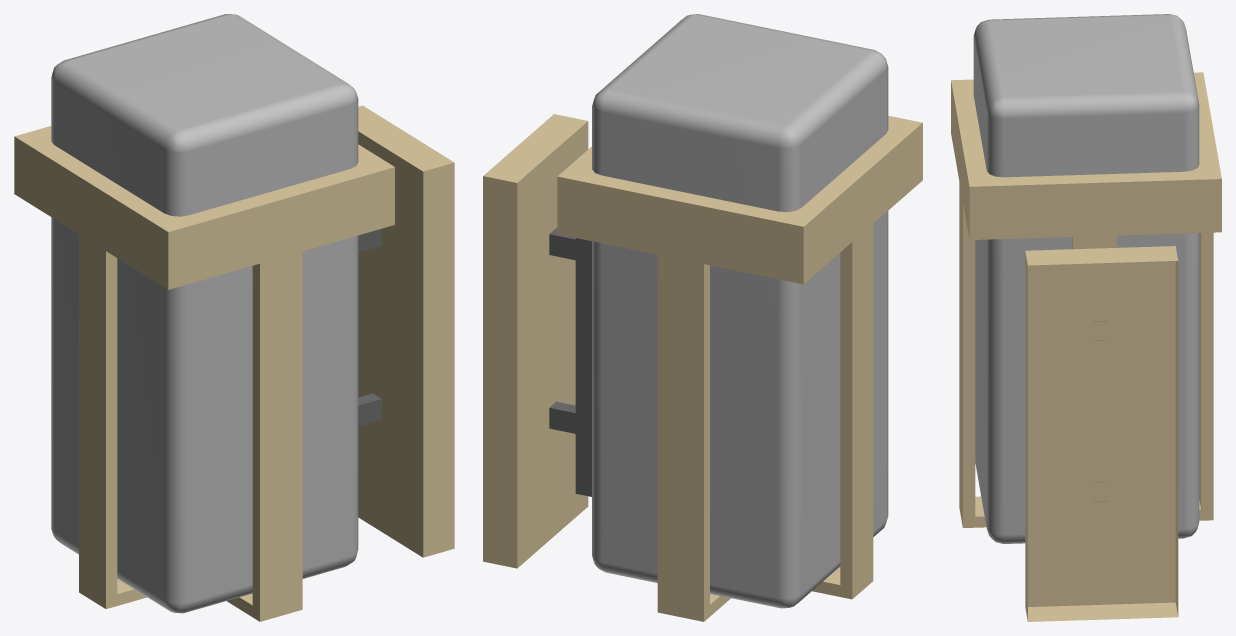
The model's file is PF_SP_Light02.fbx.
3 renders of one model, left to right at view 1: azimuth 30°, elevation 25°; view 2: azimuth 150°, elevation 25°; view 3: azimuth 270°, elevation 25°, orthographic. The views are drawn at different scales.
Parts seen in each view (by area): view 1: PF_SP_Light02; view 2: PF_SP_Light02; view 3: PF_SP_Light02.
Part boxes in pixels (box(x1,y1,x2,y2)): PF_SP_Light02: box(14, 14, 454, 621); PF_SP_Light02: box(483, 14, 922, 621); PF_SP_Light02: box(951, 14, 1221, 621).
Size of the model in its own units: 0.3162 by 0.4433 by 0.2328.
Materials: 1 (1 with a texture image).
